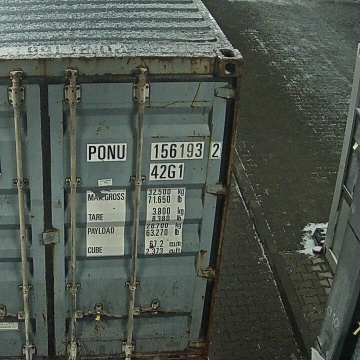serial_id: (88, 143, 219, 159)
